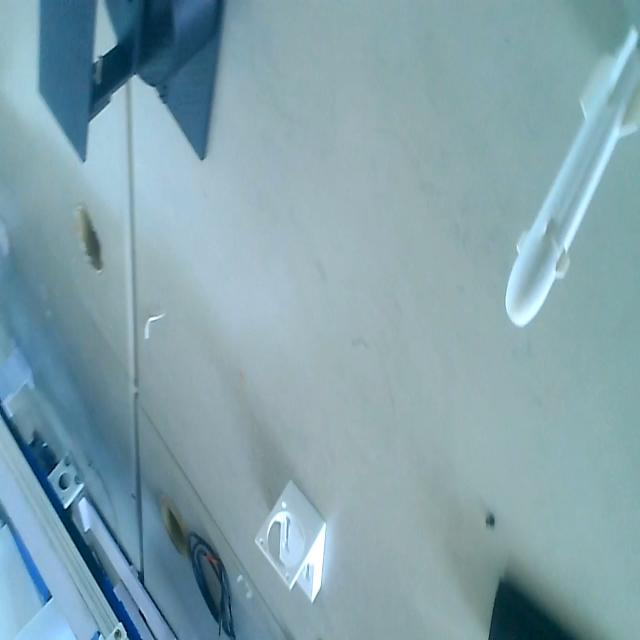Rocket: (504, 21, 640, 340)
